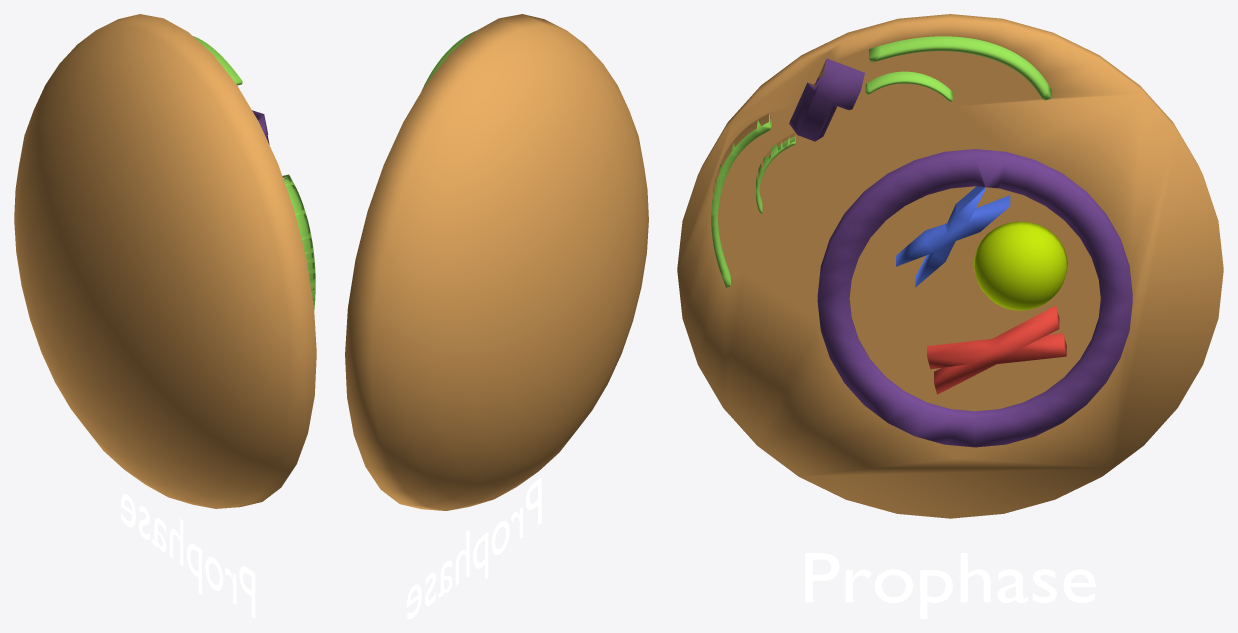
Rendered from Prophase_1.glb.
3 renders of one model, left to right at view 1: azimuth 30°, elevation 25°; view 2: azimuth 150°, elevation 25°; view 3: azimuth 270°, elevation 25°, orthographic. The views are drawn at different scales.
Visible parts, largest first — view 1: Text; view 2: Text; view 3: Text.
Part boxes in pixels (x1,y1,x2,y2): Text: [14, 14, 316, 618]; Text: [345, 14, 648, 618]; Text: [677, 14, 1223, 618].
Bounding box in the file's own units: 2.55 × 8.28 × 6.86.
